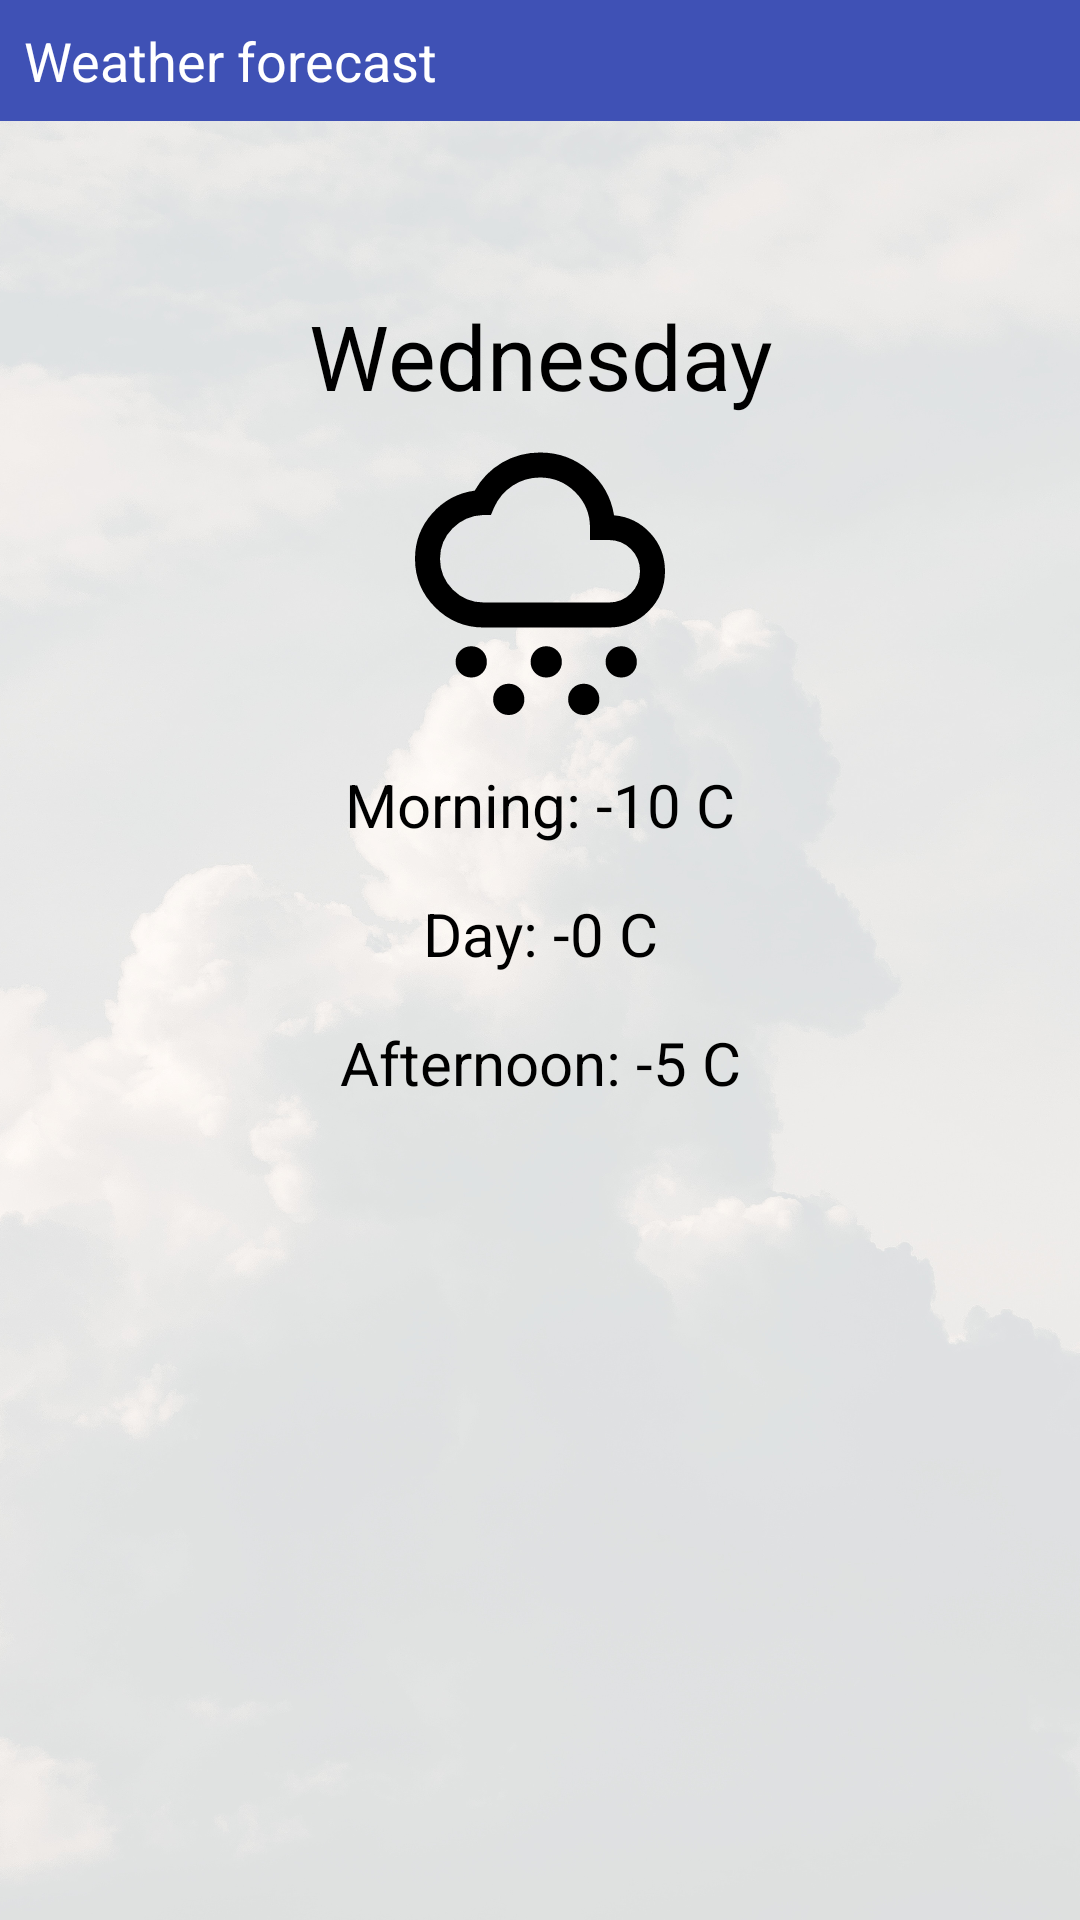

Named icons in this screenshot (1080w x 1920h) and their bounding boxes, (left=x1, top=y1, right=x2, bottom=y2):
weather snowy: (left=415, top=452, right=732, bottom=739)
